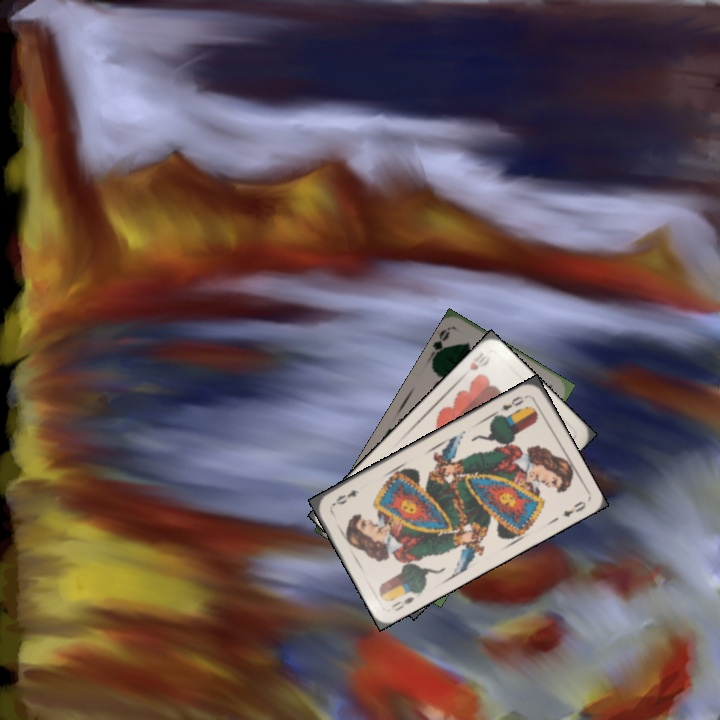EO: (496, 391, 530, 414), (388, 592, 417, 614)
GO: (425, 325, 452, 364)
H10: (465, 348, 489, 373)
